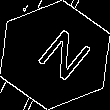N_SW: (21, 23, 89, 87)
